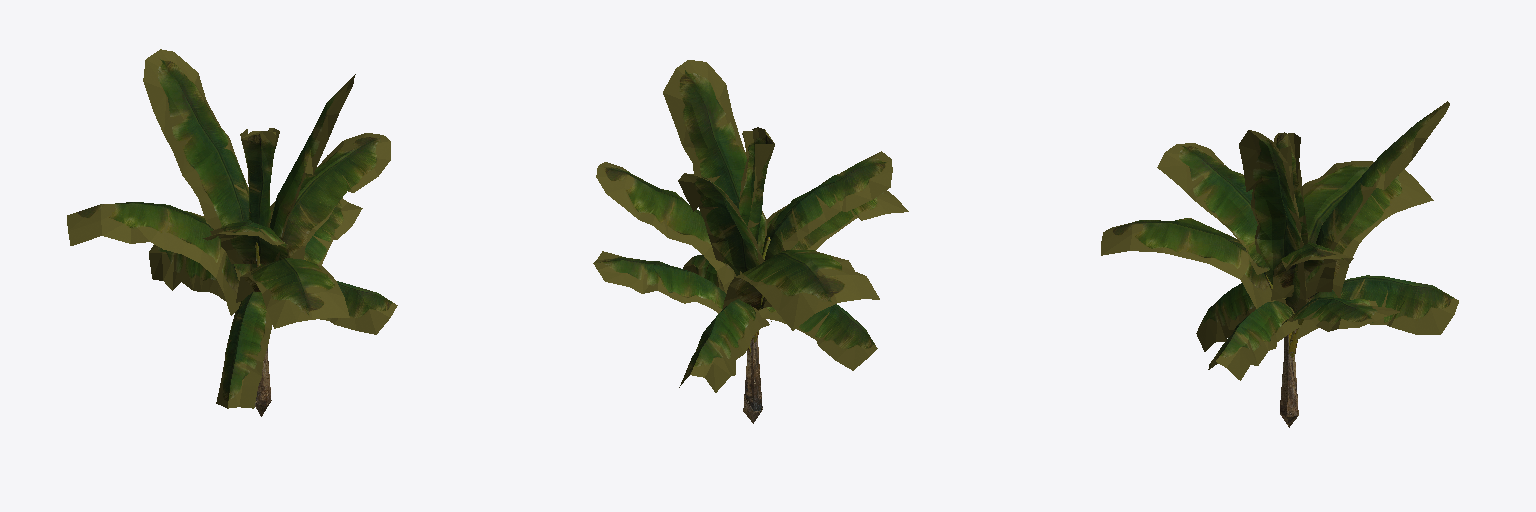
3 renders of one model, left to right at view 1: azimuth 30°, elevation 25°; view 2: azimuth 150°, elevation 25°; view 3: azimuth 270°, elevation 25°, orthographic.
Parts seen in each view (by area): view 1: Bananatree_, Bananatree_01; view 2: Bananatree_, Bananatree_01; view 3: Bananatree_, Bananatree_01.
Part boxes in pixels (left/top/right/bottom): Bananatree_: left=67, top=49, right=397, bottom=408; Bananatree_01: left=255, top=348, right=271, bottom=416; Bananatree_: left=593, top=60, right=908, bottom=392; Bananatree_01: left=743, top=338, right=762, bottom=423; Bananatree_: left=1101, top=101, right=1458, bottom=380; Bananatree_01: left=1280, top=334, right=1298, bottom=427.
Size of the model in its own units: 111 by 119 by 116.
Materials: 3 (3 with a texture image).